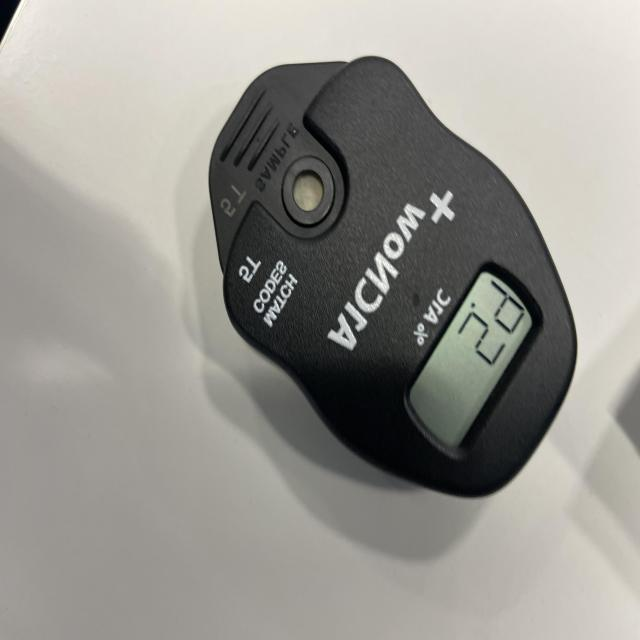hba1c: (207, 56, 579, 502)
